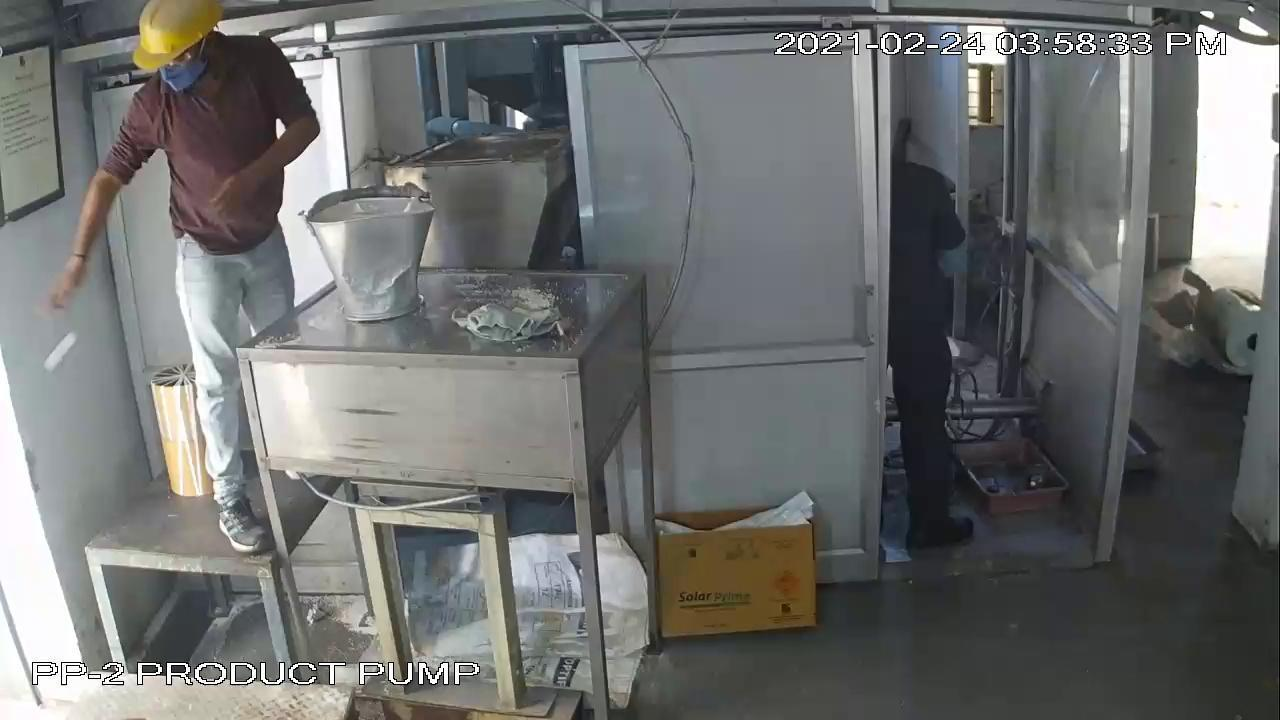helmet: (127, 1, 234, 81)
